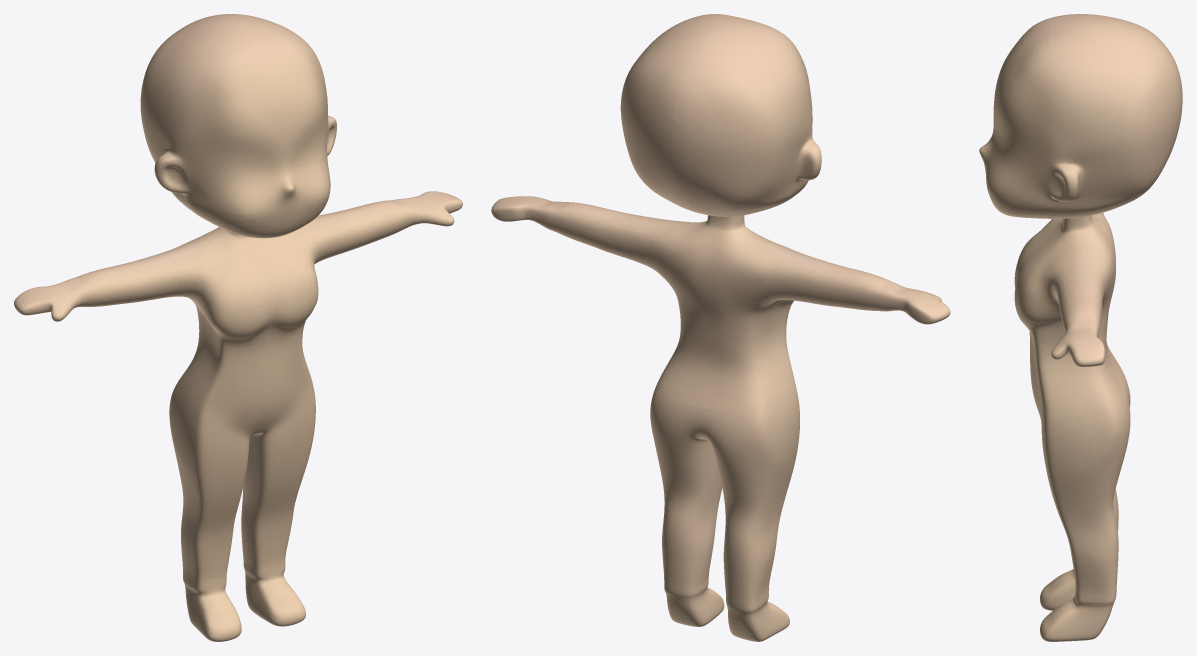
Rendered from char_yeoja_base_v3t.glb.
3 renders of one model, left to right at view 1: azimuth 30°, elevation 25°; view 2: azimuth 150°, elevation 25°; view 3: azimuth 270°, elevation 25°, orthographic. The views are drawn at different scales.
Bounding box in the file's own units: 1.49 × 1.9 × 0.5862.
Materials: 1 (1 with a texture image).
